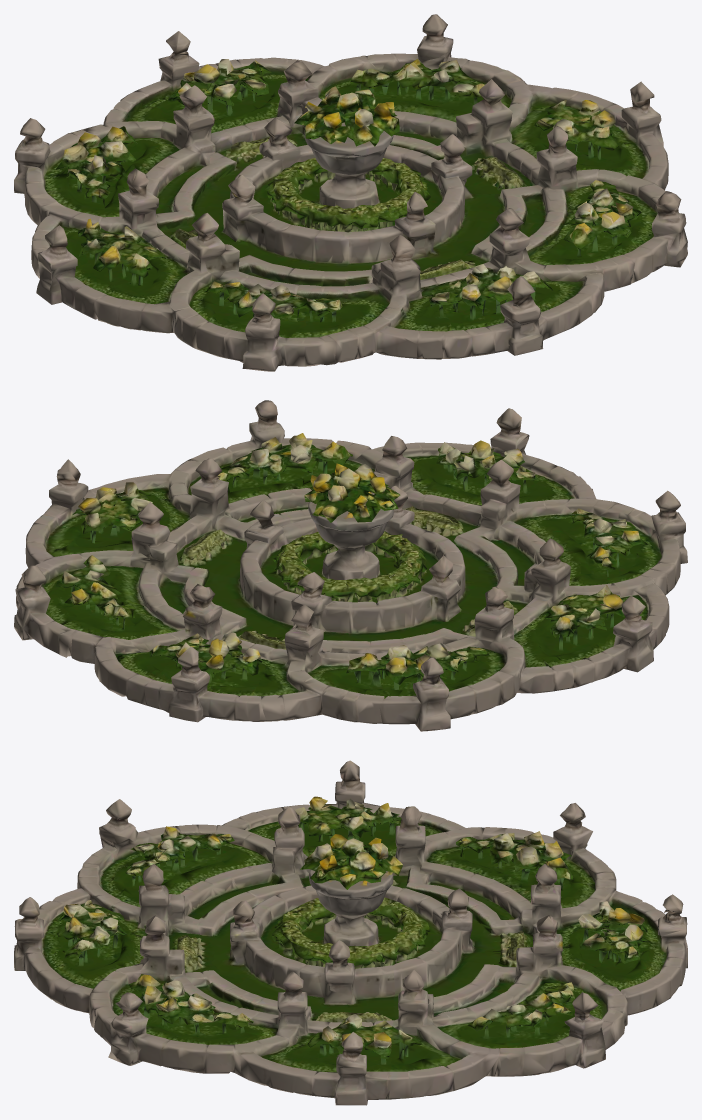
Rendered from flower_bed_square_b.glb.
3 views of the same model, one above another, from view 1: azimuth 30°, elevation 25°; view 2: azimuth 150°, elevation 25°; view 3: azimuth 270°, elevation 25° (orthographic). The views are drawn at different scales.
Visible parts, largest first — view 1: tripo_node_1ba8869e-070d-450a-acfc-a7d9860ff6f3; view 2: tripo_node_1ba8869e-070d-450a-acfc-a7d9860ff6f3; view 3: tripo_node_1ba8869e-070d-450a-acfc-a7d9860ff6f3.
Part boxes in pixels (x1,y1,x2,y2): tripo_node_1ba8869e-070d-450a-acfc-a7d9860ff6f3: (14, 14, 687, 371); tripo_node_1ba8869e-070d-450a-acfc-a7d9860ff6f3: (14, 400, 687, 731); tripo_node_1ba8869e-070d-450a-acfc-a7d9860ff6f3: (14, 760, 687, 1105).
Bounding box in the file's own units: 0.9799 × 0.1988 × 0.9768.
Materials: 1 (1 with a texture image).
